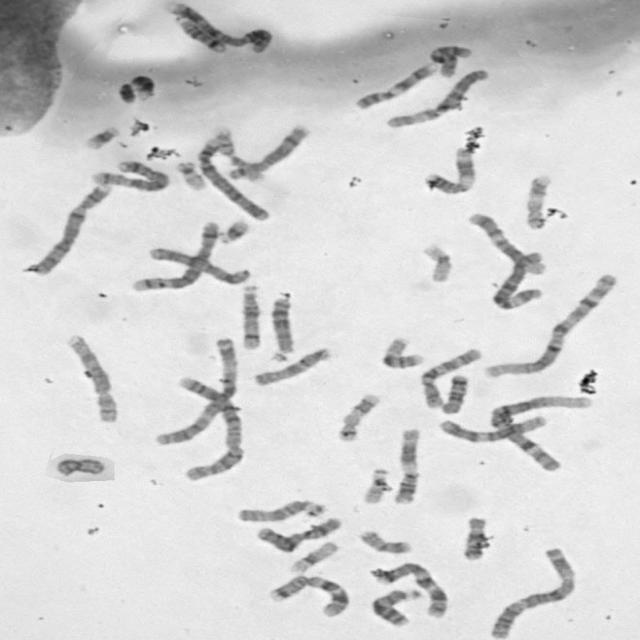A1: (482, 270, 622, 380), (486, 391, 594, 473)
A2: (173, 373, 245, 483), (168, 3, 276, 55)
A3: (151, 334, 240, 446), (484, 544, 582, 640)
B4: (19, 181, 115, 277), (194, 134, 272, 222)
B5: (127, 218, 221, 293), (88, 158, 170, 192)
C10: (416, 346, 484, 411), (426, 42, 475, 77)
C11: (422, 146, 479, 195), (390, 426, 422, 506)
C12: (465, 209, 548, 276), (434, 413, 548, 444)
C6: (381, 66, 491, 129), (487, 248, 547, 310)
C7: (370, 560, 450, 620), (265, 572, 351, 618)
C8: (224, 121, 313, 182), (62, 332, 120, 424)
C9: (350, 60, 439, 110), (115, 74, 158, 106)
D13: (368, 586, 424, 628), (266, 293, 296, 354)
D14: (174, 15, 229, 54), (236, 282, 263, 352)
D15: (248, 345, 336, 388), (233, 497, 328, 523)
E16: (212, 128, 266, 184), (377, 334, 426, 370)
E17: (333, 391, 382, 442), (522, 173, 552, 230)
E18: (459, 515, 489, 563), (438, 372, 470, 414)
F19: (285, 539, 340, 574), (418, 242, 455, 284)
F20: (356, 528, 413, 555), (53, 454, 108, 478)
G21: (80, 124, 122, 152), (216, 218, 251, 245)
G22: (359, 466, 391, 505), (173, 159, 209, 192)
X: (146, 244, 252, 286), (252, 514, 343, 554)
